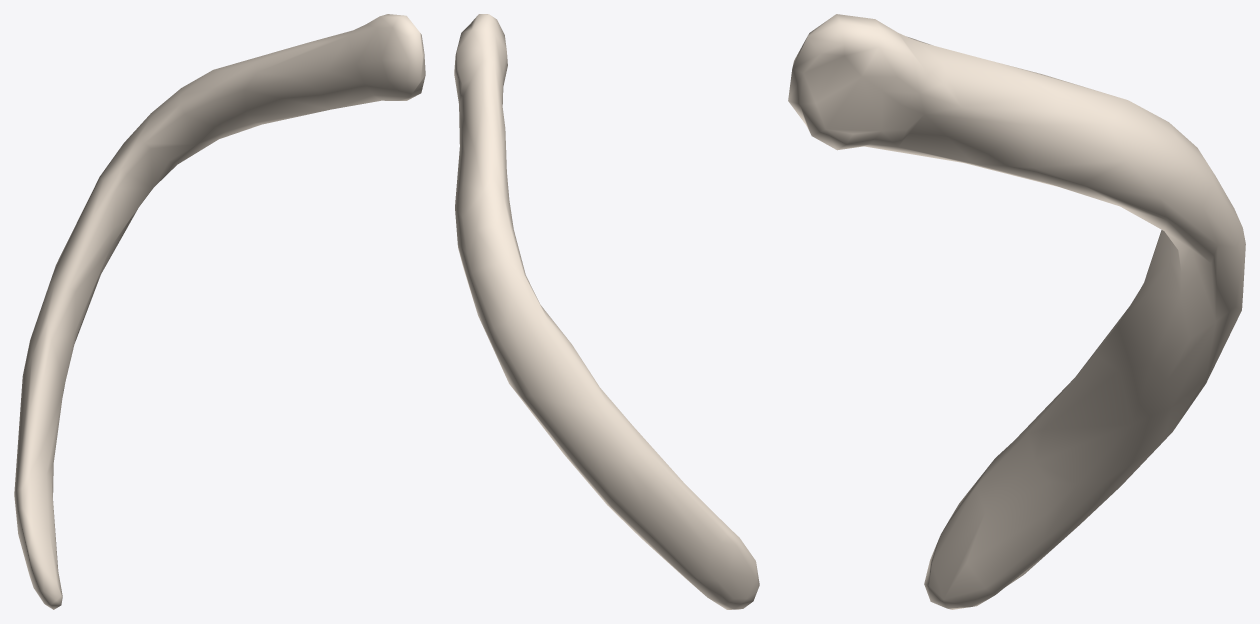
The model's file is right_rib_12.glb.
3 renders of one model, left to right at view 1: azimuth 30°, elevation 25°; view 2: azimuth 150°, elevation 25°; view 3: azimuth 270°, elevation 25°, orthographic. The views are drawn at different scales.
Visible parts, largest first — view 1: Rib (12th).r; view 2: Rib (12th).r; view 3: Rib (12th).r.
Part boxes in pixels (<box>): Rib (12th).r: <box>14,14,425,609</box>; Rib (12th).r: <box>454,14,759,609</box>; Rib (12th).r: <box>788,14,1245,609</box>.
Bounding box in the file's own units: 0.0616 × 0.0917 × 0.0462.
